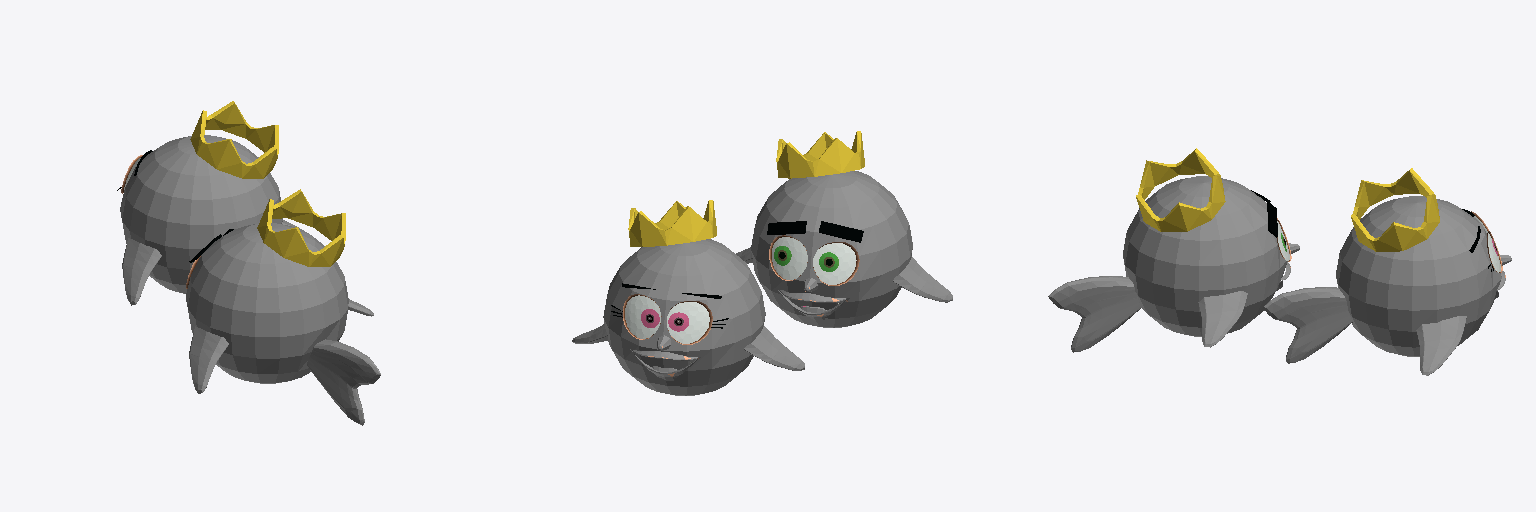
3 renders of one model, left to right at view 1: azimuth 30°, elevation 25°; view 2: azimuth 150°, elevation 25°; view 3: azimuth 270°, elevation 25°, orthographic.
Parts seen in each view (by area): view 1: Peces_polySurface2387; view 2: Peces_polySurface2387; view 3: Peces_polySurface2387.
Part boxes in pixels (x1,y1,x2,y2): Peces_polySurface2387: (117, 101, 380, 425); Peces_polySurface2387: (572, 131, 952, 395); Peces_polySurface2387: (1048, 148, 1511, 375).
Bounding box in the file's own units: 0.4357 × 0.3227 × 0.7166.
2 materials, 1 textured.